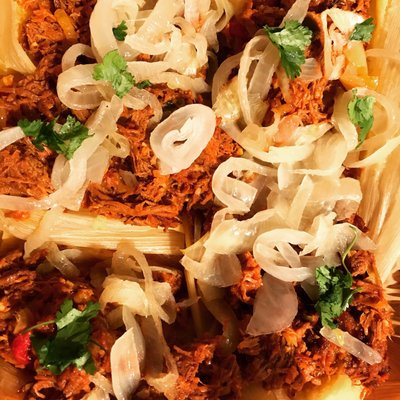curry: (17, 113, 92, 161), (92, 49, 136, 98)
